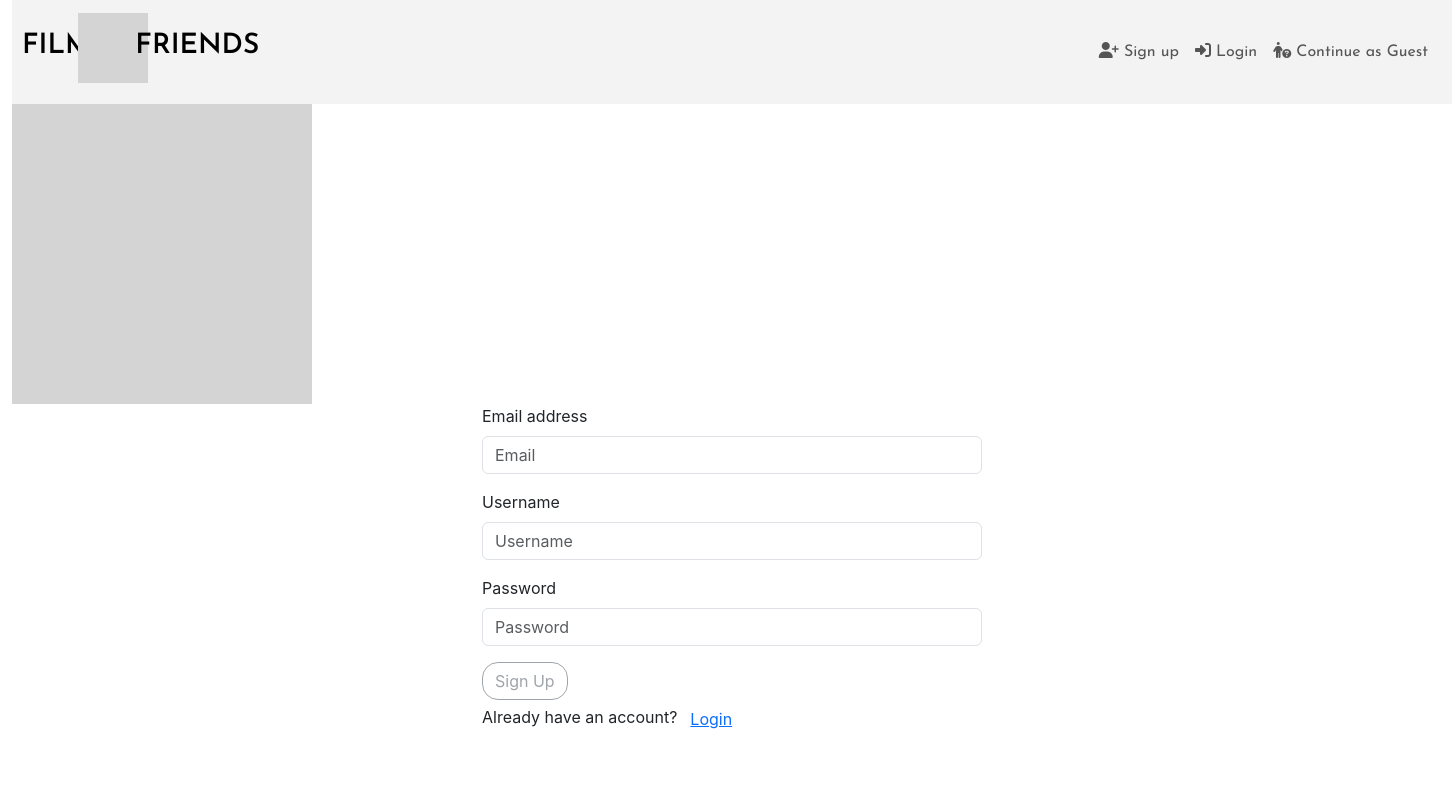
Scenario: SIGN UP WITH INVALID DATA › Taken username displays appropriate error message and doesn't redirect user to login page
The width and height of the screenshot is (1452, 810).
Note: Input data to make submit button enabled
Type "user one" into the field labelled "Username" at [732, 541], box [482, 522, 982, 560]
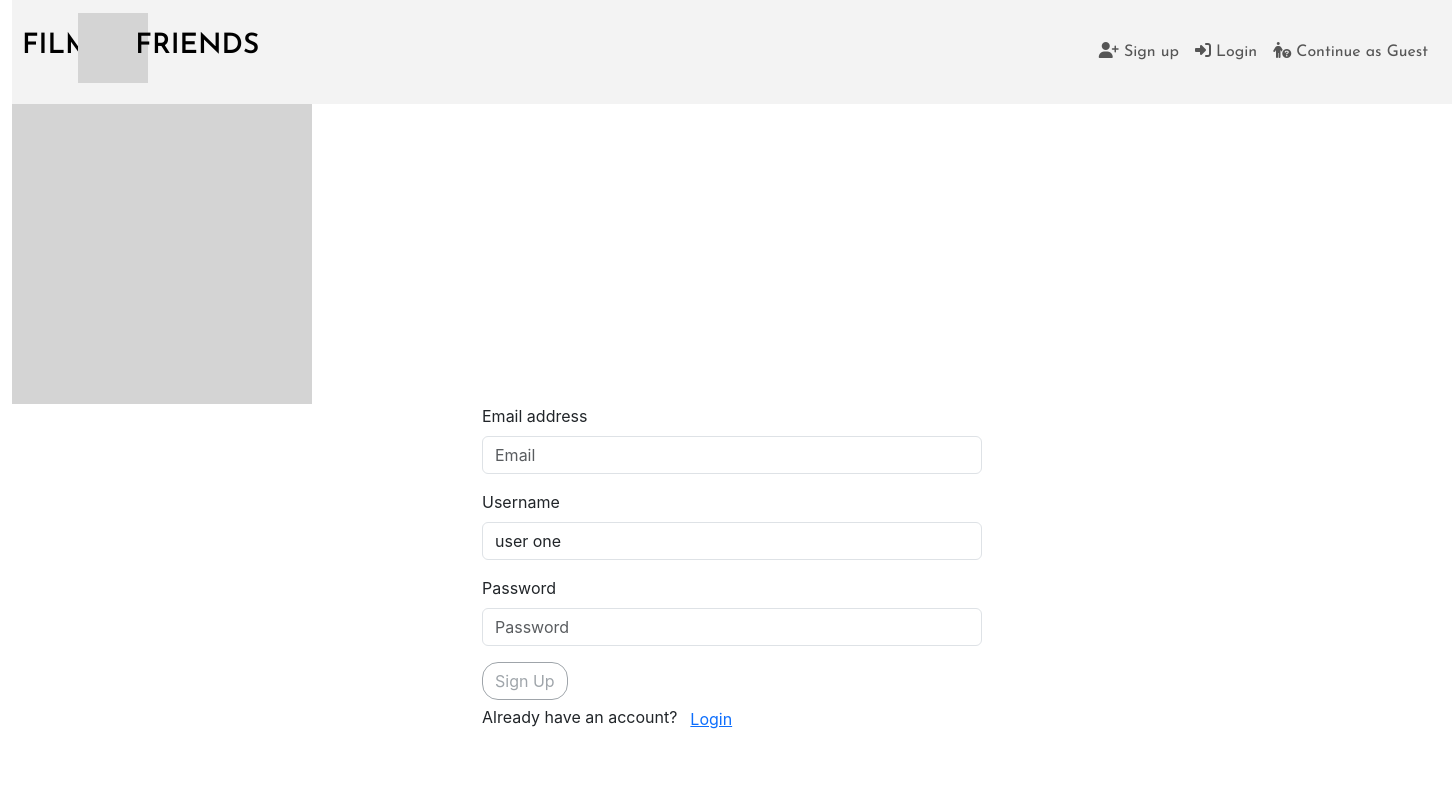
Type "user@email.com" into the field labelled "Email address" at [732, 455], box [482, 436, 982, 474]
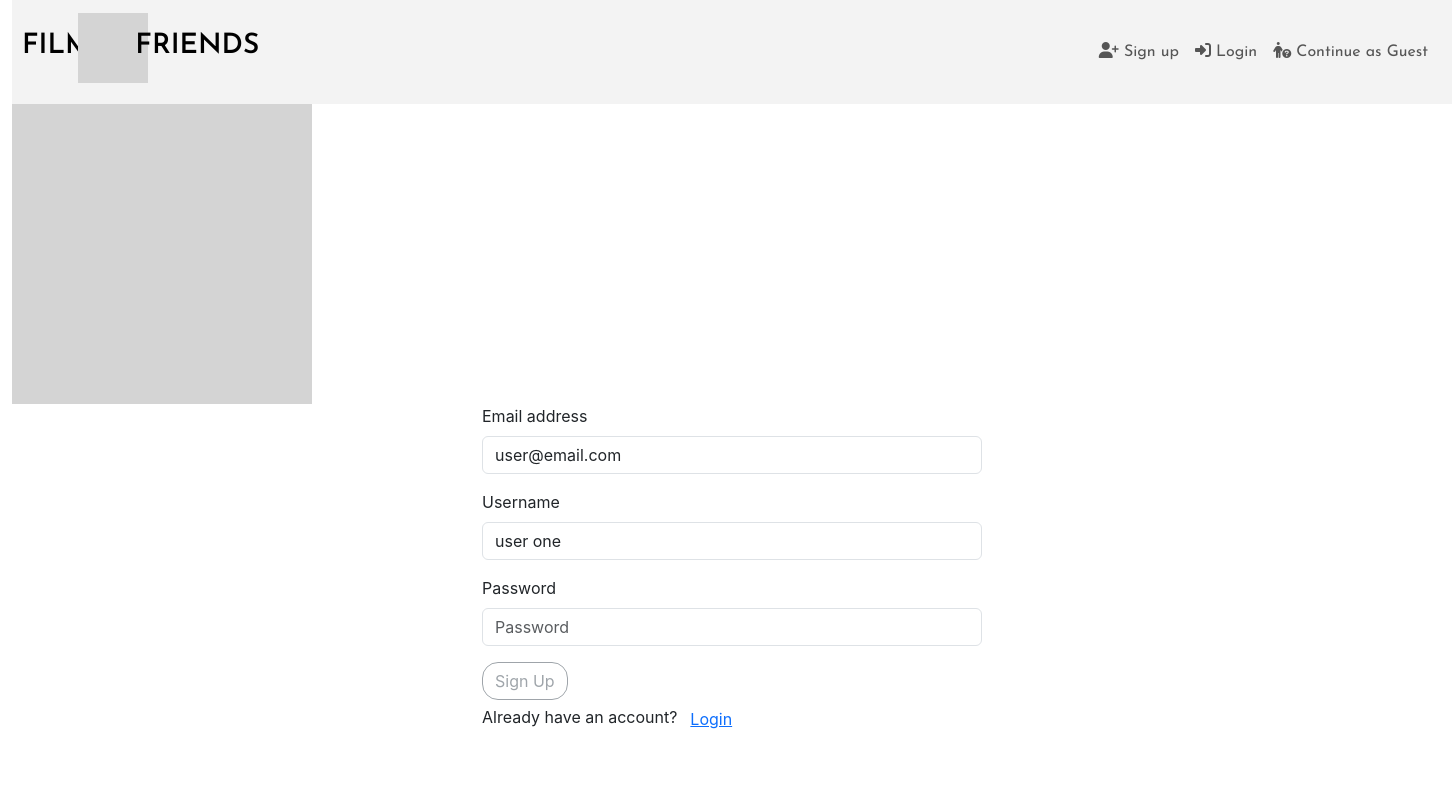
Type "mypwd12345" into the password field labelled "Password" at [732, 627], box [482, 608, 982, 646]
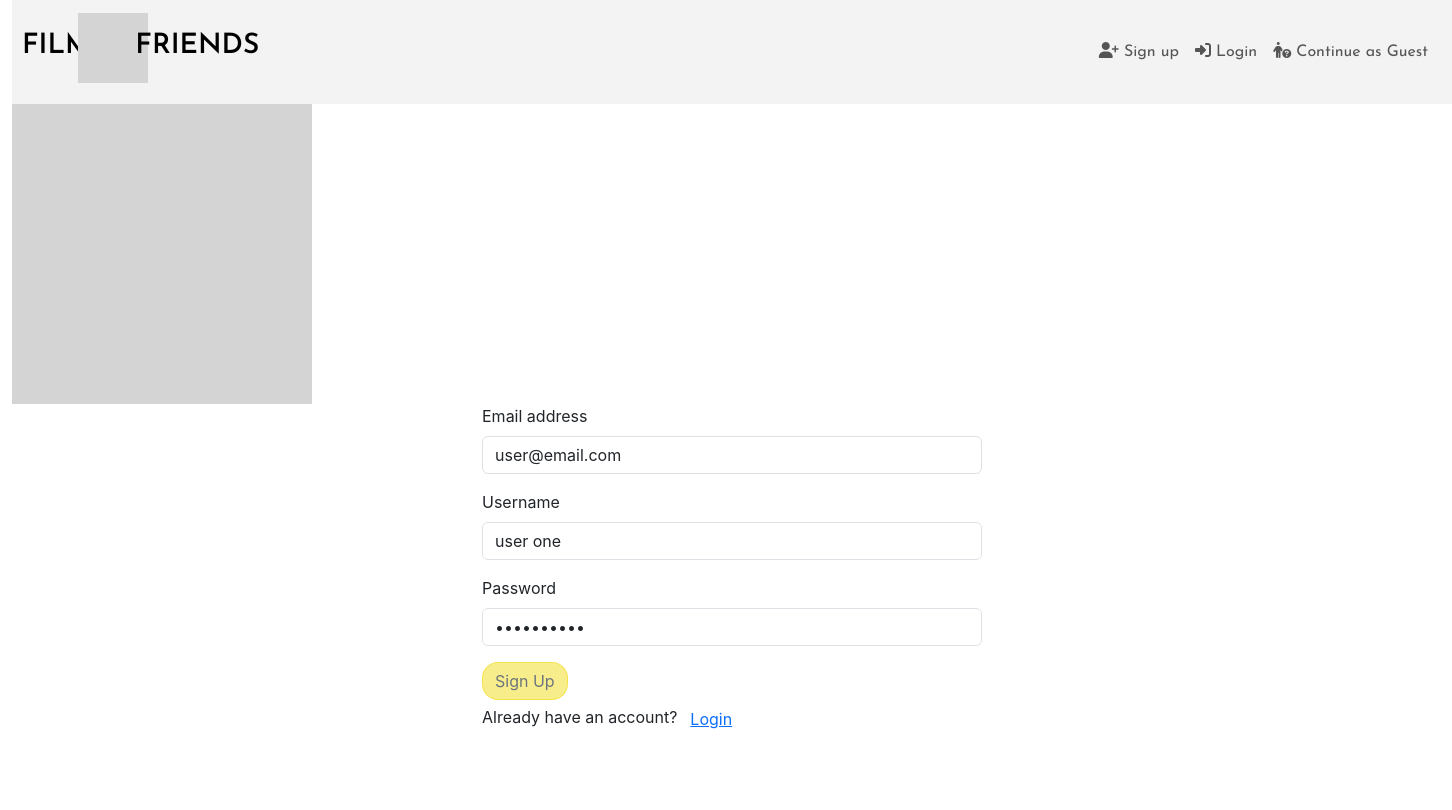
Note: Find sign up button
Click the button "Sign Up" at [525, 681], box [482, 662, 568, 700]
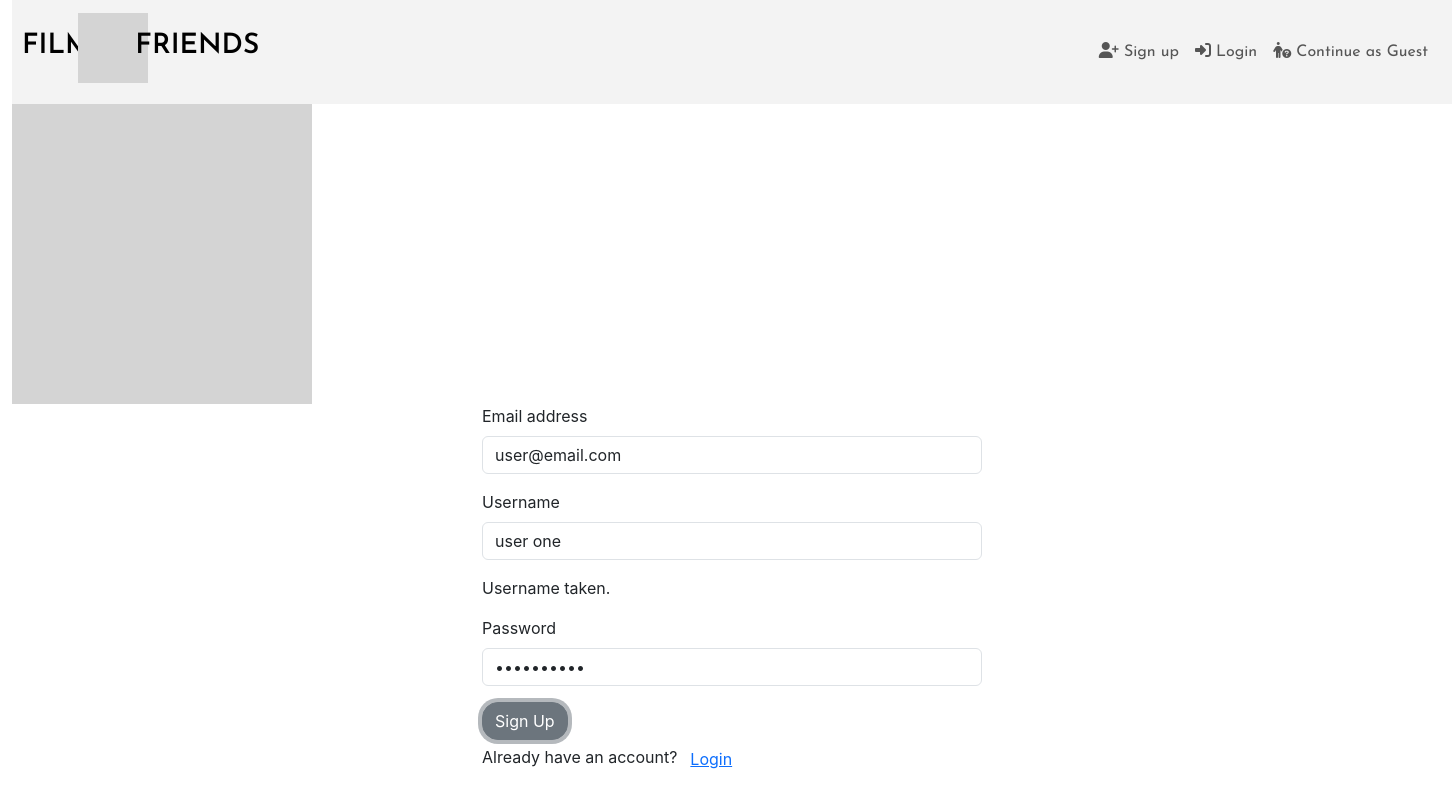
expect the text "Username taken." is shown: met, box [482, 578, 610, 598]
